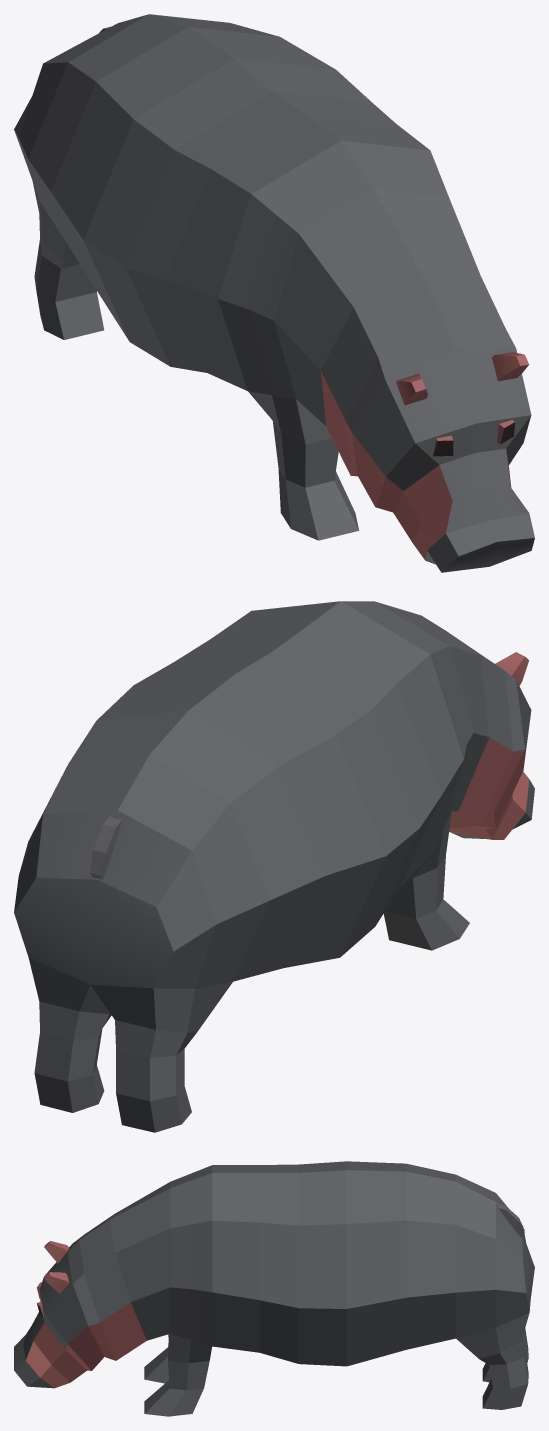
File: hippo.glb
The picture shows the model from 3 angles, top to bottom: view 1: azimuth 30°, elevation 25°; view 2: azimuth 150°, elevation 25°; view 3: azimuth 270°, elevation 25°; orthographic projection. The views are drawn at different scales.
Visible parts, largest first — view 1: Geo_Hippopotamus; view 2: Geo_Hippopotamus; view 3: Geo_Hippopotamus.
Boxes of the visible parts, left/top/right/bottom form: Geo_Hippopotamus: left=14, top=14, right=534, bottom=572; Geo_Hippopotamus: left=14, top=601, right=534, bottom=1132; Geo_Hippopotamus: left=14, top=1161, right=534, bottom=1416.
Size of the model in its own units: 101 by 111 by 238.
Materials: 1 (1 with a texture image).
